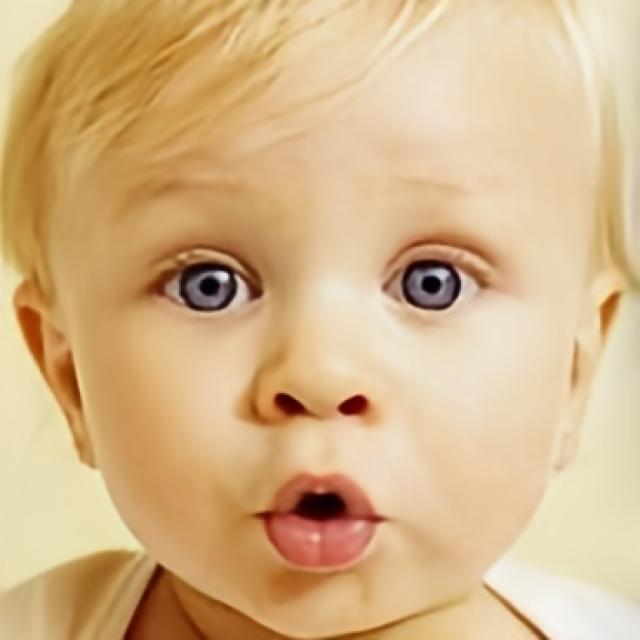surprise: (87, 0, 556, 640)
